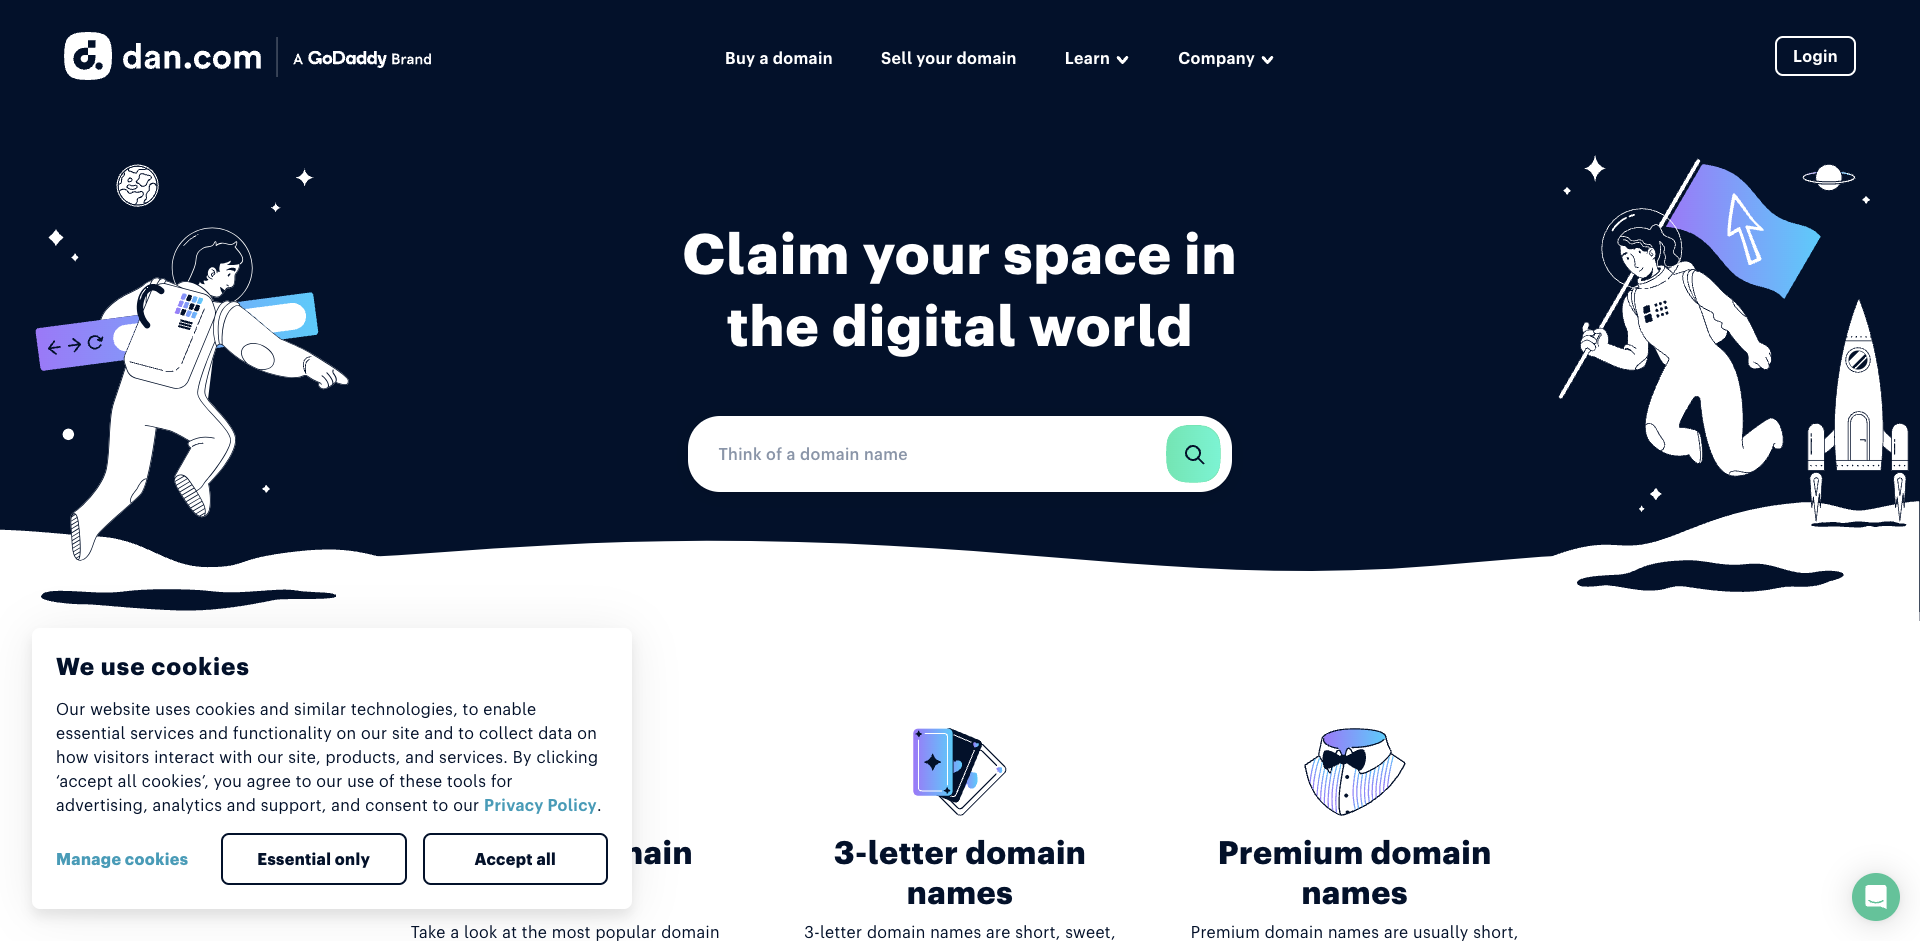button: (56, 833, 609, 885), (204, 833, 609, 885), (1553, 36, 1856, 76), (220, 833, 407, 885), (422, 833, 609, 885), (56, 834, 204, 883), (1178, 39, 1275, 74), (1776, 36, 1856, 76), (1166, 425, 1221, 483), (1065, 39, 1130, 74)
dropdown: (1178, 39, 1275, 74), (1065, 39, 1130, 74)
input: (710, 420, 1163, 486)
link: (64, 32, 431, 80), (880, 39, 1016, 70), (725, 39, 833, 70), (484, 795, 598, 814)
